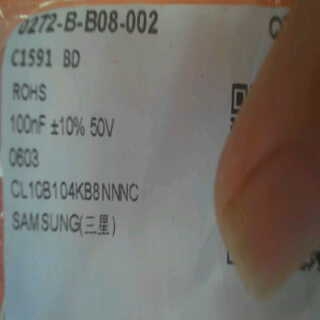100nF: (9, 111, 47, 140)
